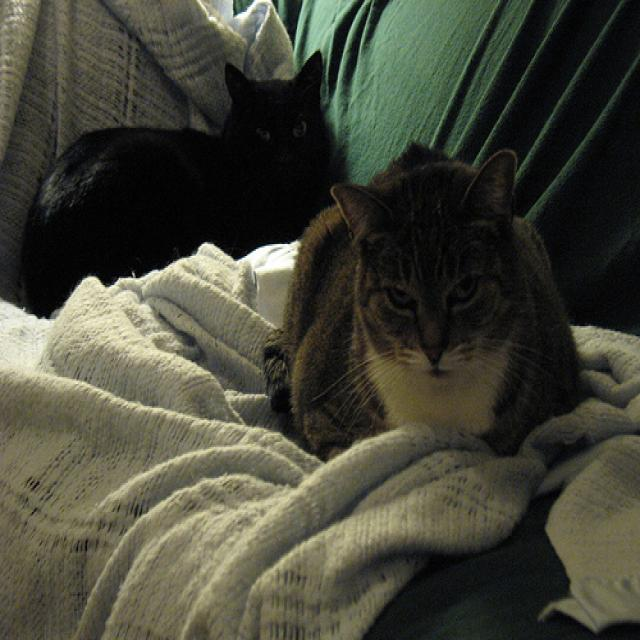Cat: (252, 119, 587, 461), (19, 40, 342, 274)
